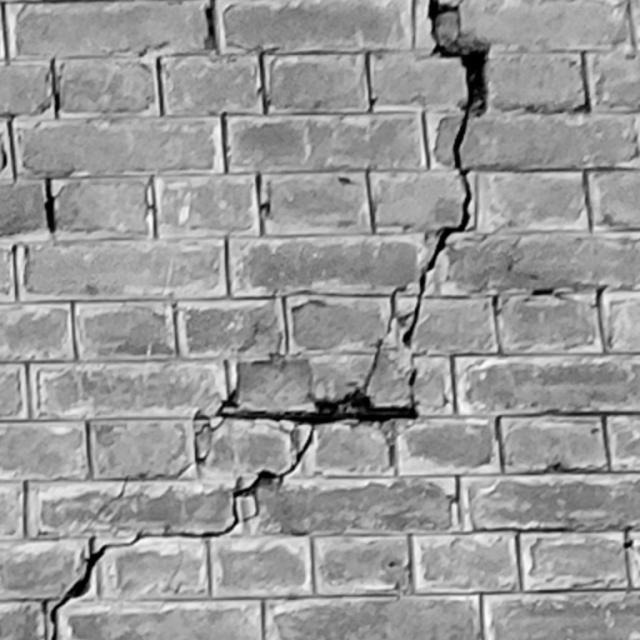crack: (49, 1, 488, 640)
